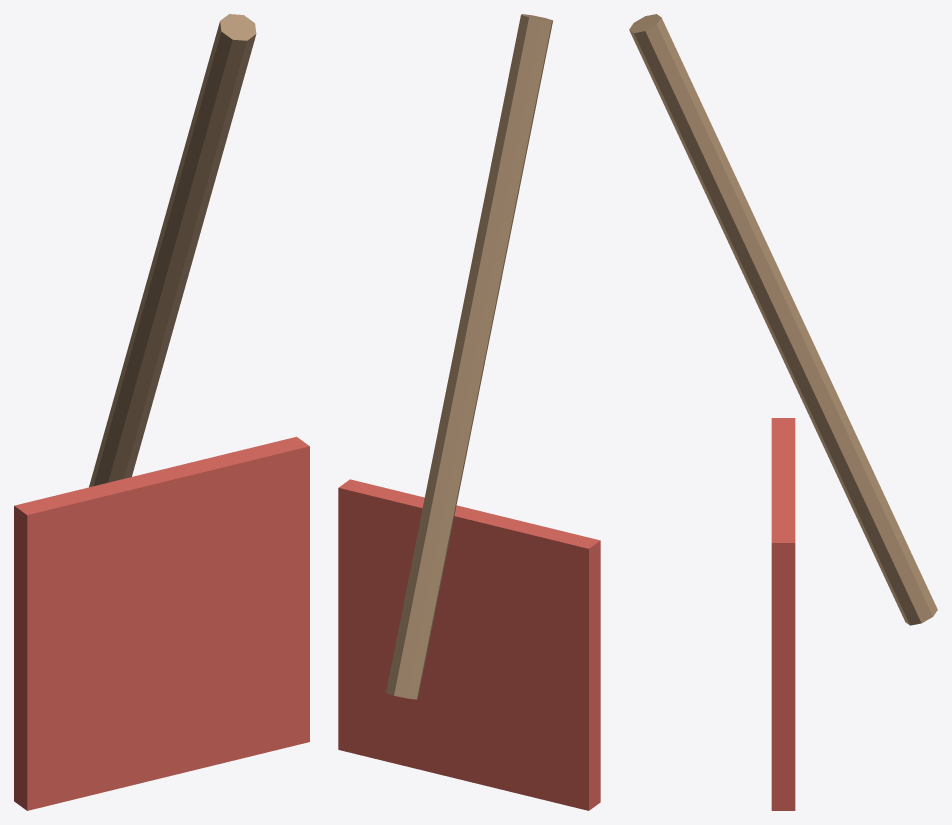
File: snow_shovel.glb
The picture shows the model from 3 angles, left to right: view 1: azimuth 30°, elevation 25°; view 2: azimuth 150°, elevation 25°; view 3: azimuth 270°, elevation 25°; orthographic projection. The views are drawn at different scales.
Parts seen in each view (by area): view 1: blade, handle; view 2: blade, handle; view 3: handle, blade.
Boxes of the visible parts, box(x1,y1,x2,y2) form: blade: box(14, 436, 309, 810); handle: box(89, 14, 256, 487); blade: box(338, 479, 600, 810); handle: box(386, 14, 552, 699); handle: box(629, 14, 937, 625); blade: box(771, 418, 795, 810).
Bounding box in the file's own units: 0.5 × 1.36 × 0.5222.
